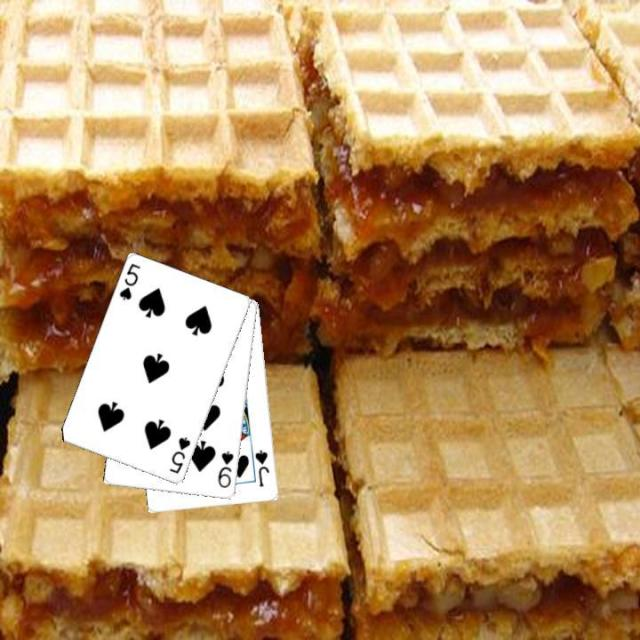5S: (165, 434, 193, 476), (116, 260, 142, 302)
9S: (214, 447, 236, 490)
JS: (252, 446, 271, 488)
